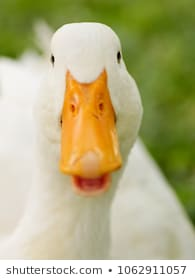duck: (35, 16, 169, 209)
